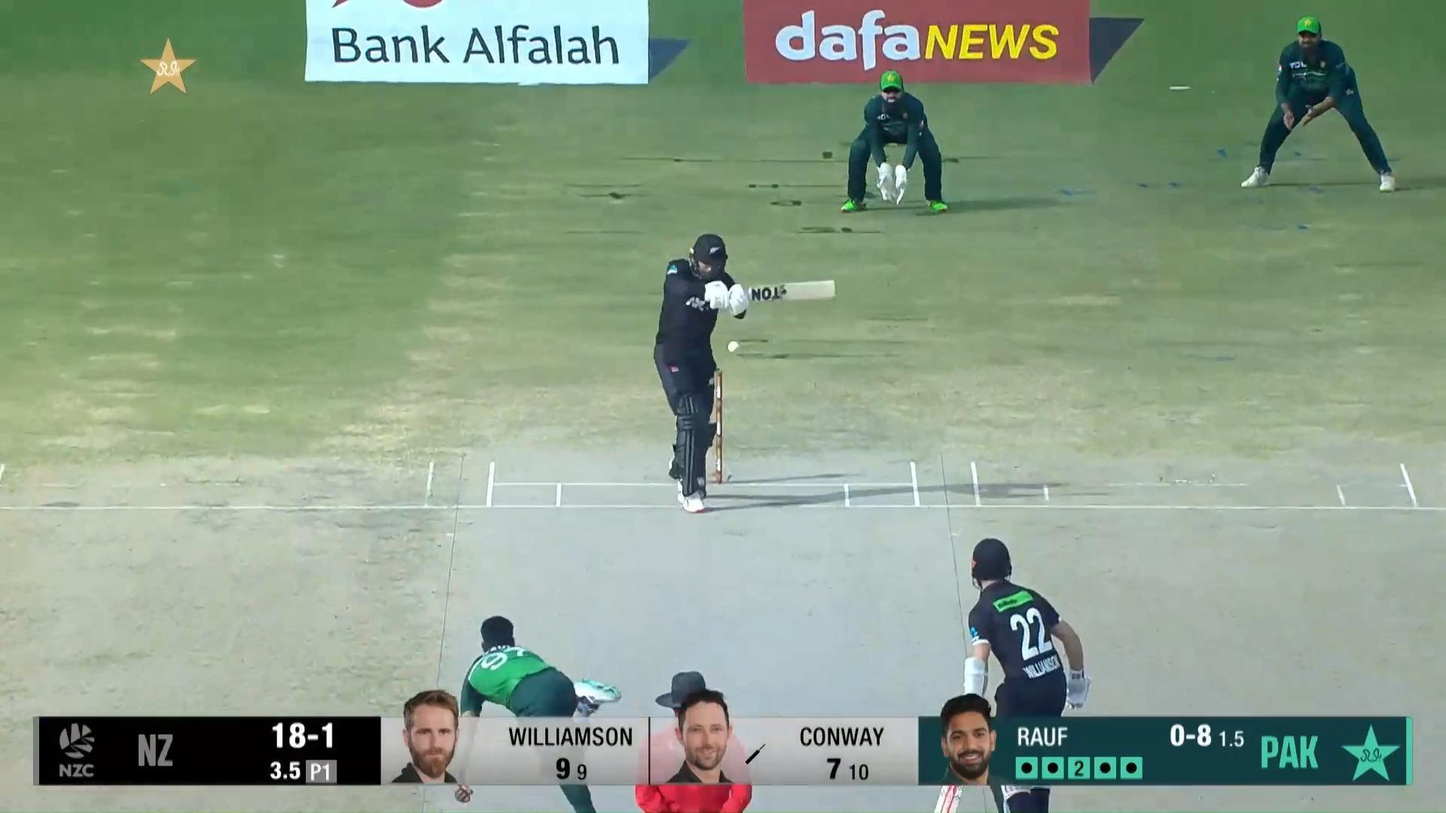BM 1: (652, 232, 839, 515)
BO: (453, 613, 625, 813)
